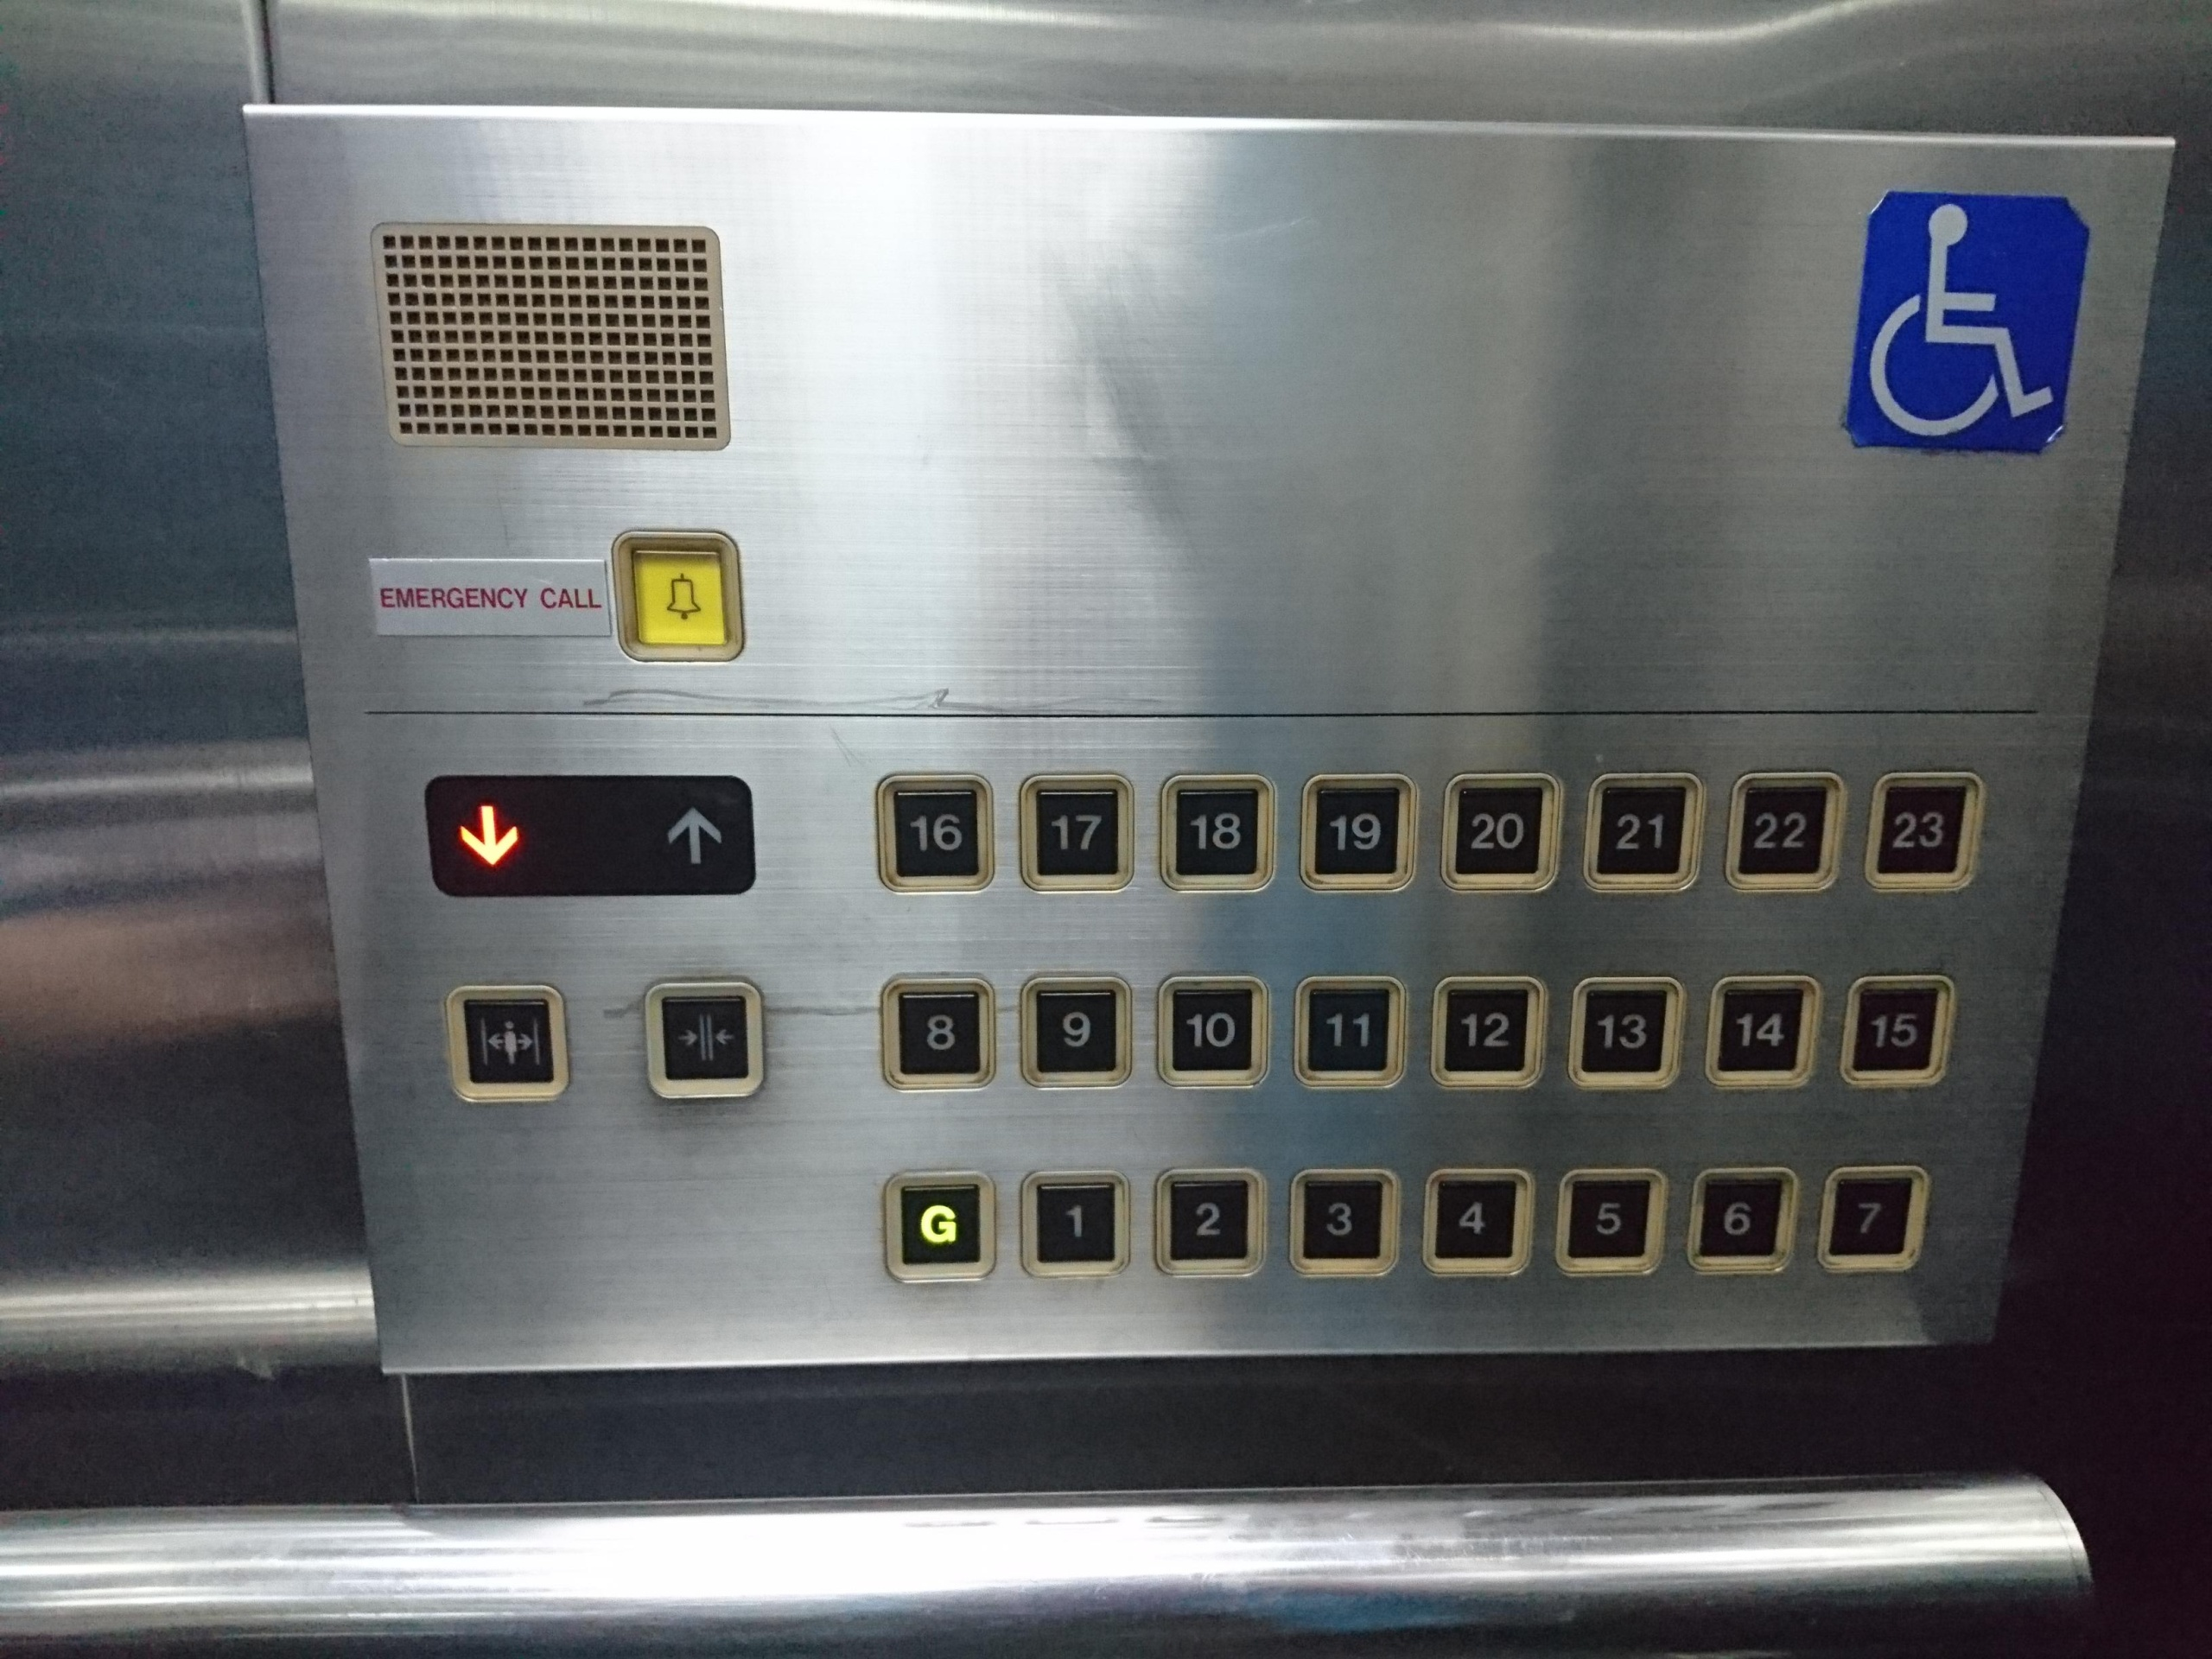1: (1019, 1166, 1134, 1277)
10: (1151, 971, 1270, 1093)
11: (1289, 971, 1407, 1091)
12: (1430, 974, 1548, 1089)
13: (1568, 974, 1683, 1089)
14: (1705, 972, 1820, 1087)
15: (1841, 972, 1959, 1087)
16: (876, 774, 995, 892)
17: (1017, 772, 1137, 892)
18: (1162, 770, 1275, 896)
19: (1298, 770, 1418, 892)
2: (1151, 1164, 1268, 1281)
20: (1442, 770, 1561, 892)
21: (1580, 770, 1705, 894)
22: (1723, 767, 1844, 890)
23: (1862, 769, 1989, 892)
3: (1285, 1166, 1404, 1276)
4: (1420, 1166, 1536, 1277)
5: (1550, 1166, 1670, 1276)
6: (1683, 1162, 1803, 1276)
7: (1815, 1162, 1935, 1272)
8: (881, 972, 1000, 1098)
9: (1015, 971, 1136, 1091)
CH: (1844, 192, 2095, 462)
G: (880, 1166, 1000, 1283)
alarm: (608, 530, 747, 664)
close: (643, 981, 768, 1100)
open: (442, 986, 566, 1105)
